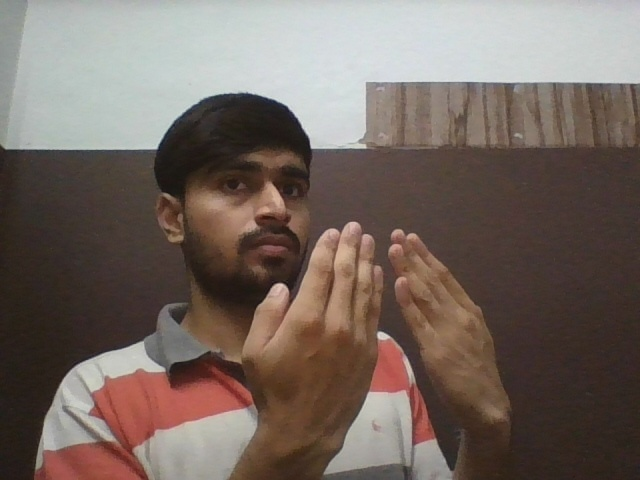Thankyou: (241, 221, 511, 435)
